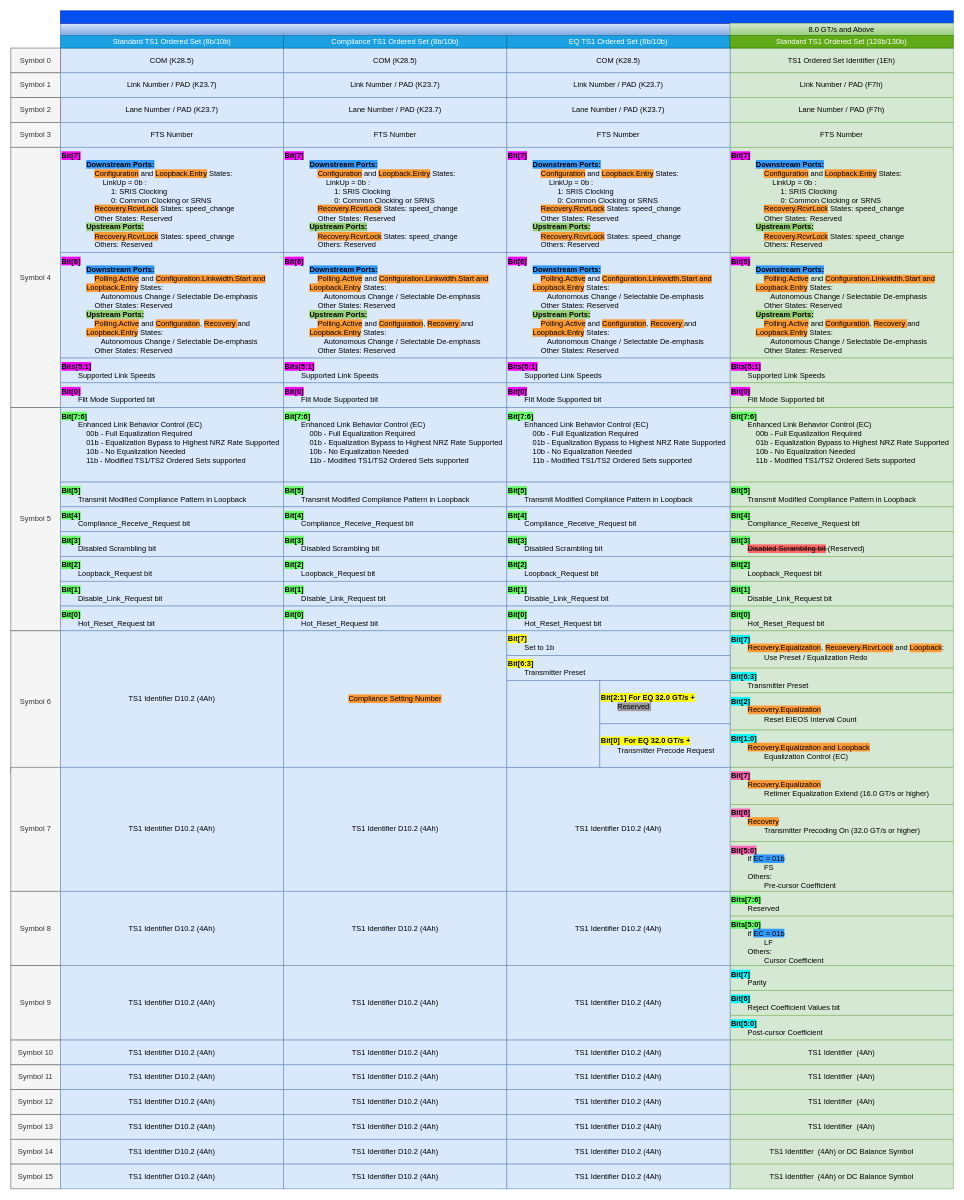
Some shapes in this 964 by 1200 pixel diagram are drawn without their labels. Here are the shapes that lost their labels. From the top down, the box of each, then its label:
(60, 23, 730, 36): 2.5 GT/s or 5.0 GT/s
(60, 10, 953, 23): Non-Flit Mode
(506, 680, 600, 767): Bit[2:0] for EQ 8.0 GT/s Receiver Preset Hint
